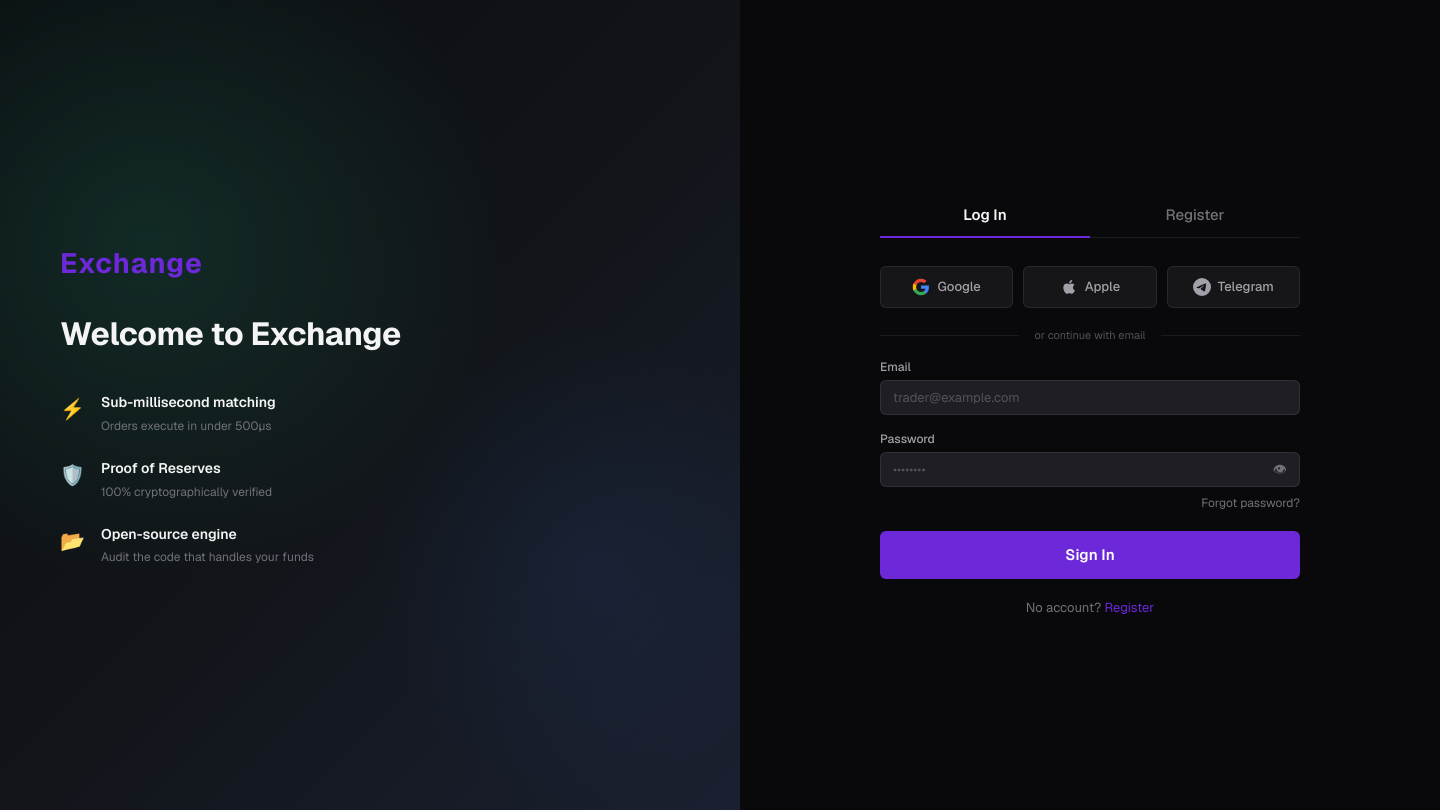
Scenario: AuthPage › shows validation error when email is empty
Click the button "Sign In" at (1090, 555), box [880,531,1300,579]
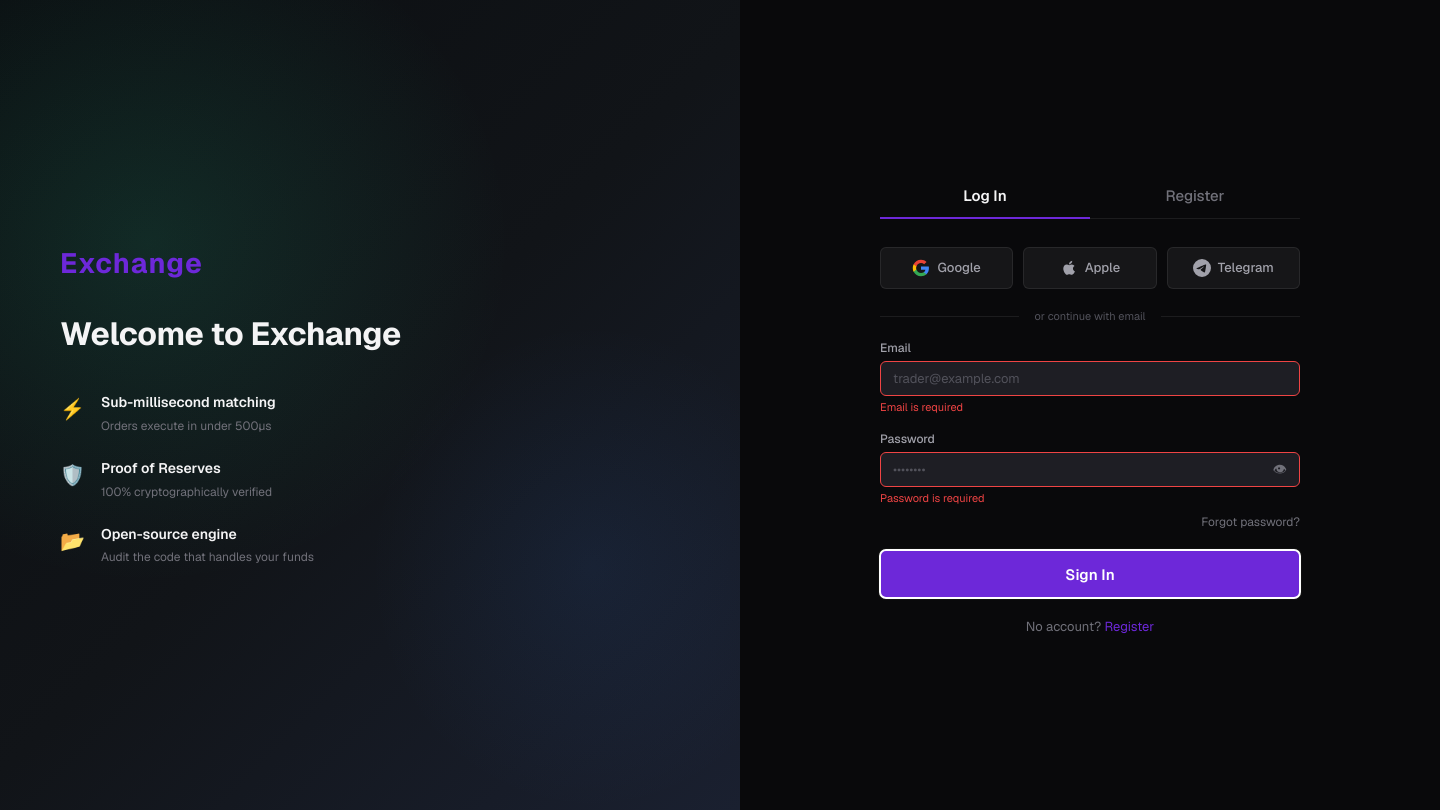
Now the text "Email is required" is shown, box [880,400,963,414]
